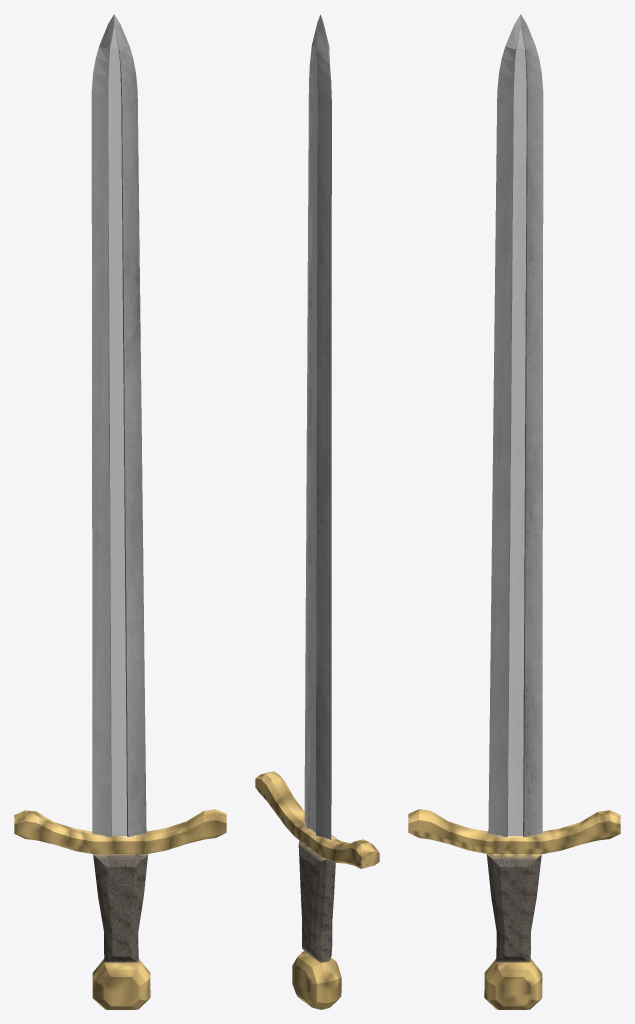
3 renders of one model, left to right at view 1: azimuth 90°, elevation 25°; view 2: azimuth 210°, elevation 25°; view 3: azimuth 270°, elevation 25°, orthographic.
Visible parts, largest first — view 1: Object_TexMap; view 2: Object_TexMap; view 3: Object_TexMap.
Boxes of the visible parts, x1,y1,x2,y2 form: Object_TexMap: (14,14,226,1009); Object_TexMap: (255,14,379,1009); Object_TexMap: (408,14,620,1009).
Bounding box in the file's own units: 0.0821 × 2.5 × 0.4846.
Materials: 1 (1 with a texture image).
